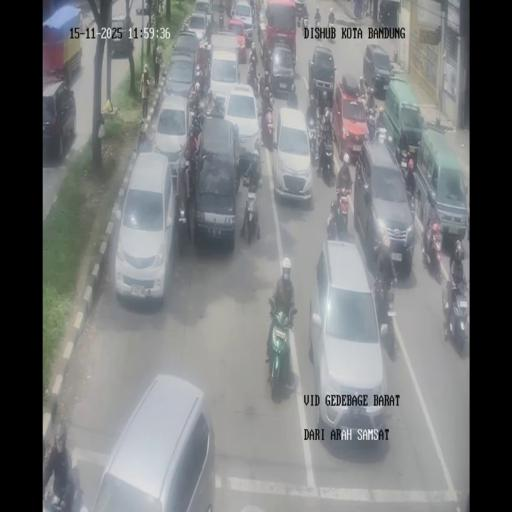3: (41, 5, 84, 86), (383, 78, 423, 162)
car: (88, 374, 212, 509), (308, 240, 388, 442), (114, 151, 175, 304), (356, 137, 415, 275), (414, 130, 468, 245), (272, 106, 313, 206), (221, 84, 262, 176), (152, 94, 192, 184), (332, 79, 368, 160), (42, 81, 77, 162), (209, 32, 243, 91), (162, 53, 196, 103), (308, 46, 336, 104), (364, 44, 394, 98), (268, 43, 295, 98), (108, 13, 134, 58), (184, 11, 210, 44), (231, 0, 253, 37)
truck: (264, 300, 298, 402), (442, 269, 470, 354), (42, 460, 86, 512), (373, 276, 397, 356), (422, 217, 443, 276), (175, 176, 190, 252), (317, 132, 335, 184), (242, 193, 260, 244), (194, 42, 212, 88), (335, 185, 352, 233), (306, 107, 318, 162), (405, 165, 417, 211), (262, 105, 274, 149), (189, 107, 204, 138), (259, 24, 270, 65), (406, 140, 420, 172), (188, 81, 202, 111), (260, 80, 273, 112), (137, 120, 150, 152), (326, 207, 338, 240), (247, 65, 259, 97), (366, 109, 378, 141), (286, 83, 298, 109), (364, 88, 376, 112), (375, 124, 388, 146), (212, 97, 226, 117), (244, 27, 254, 49), (359, 76, 367, 99), (238, 42, 246, 64), (400, 148, 408, 170), (314, 6, 321, 31), (328, 19, 336, 40), (218, 6, 224, 30), (251, 0, 257, 23), (378, 2, 384, 23), (301, 13, 307, 31), (230, 2, 236, 18), (296, 13, 302, 27)
